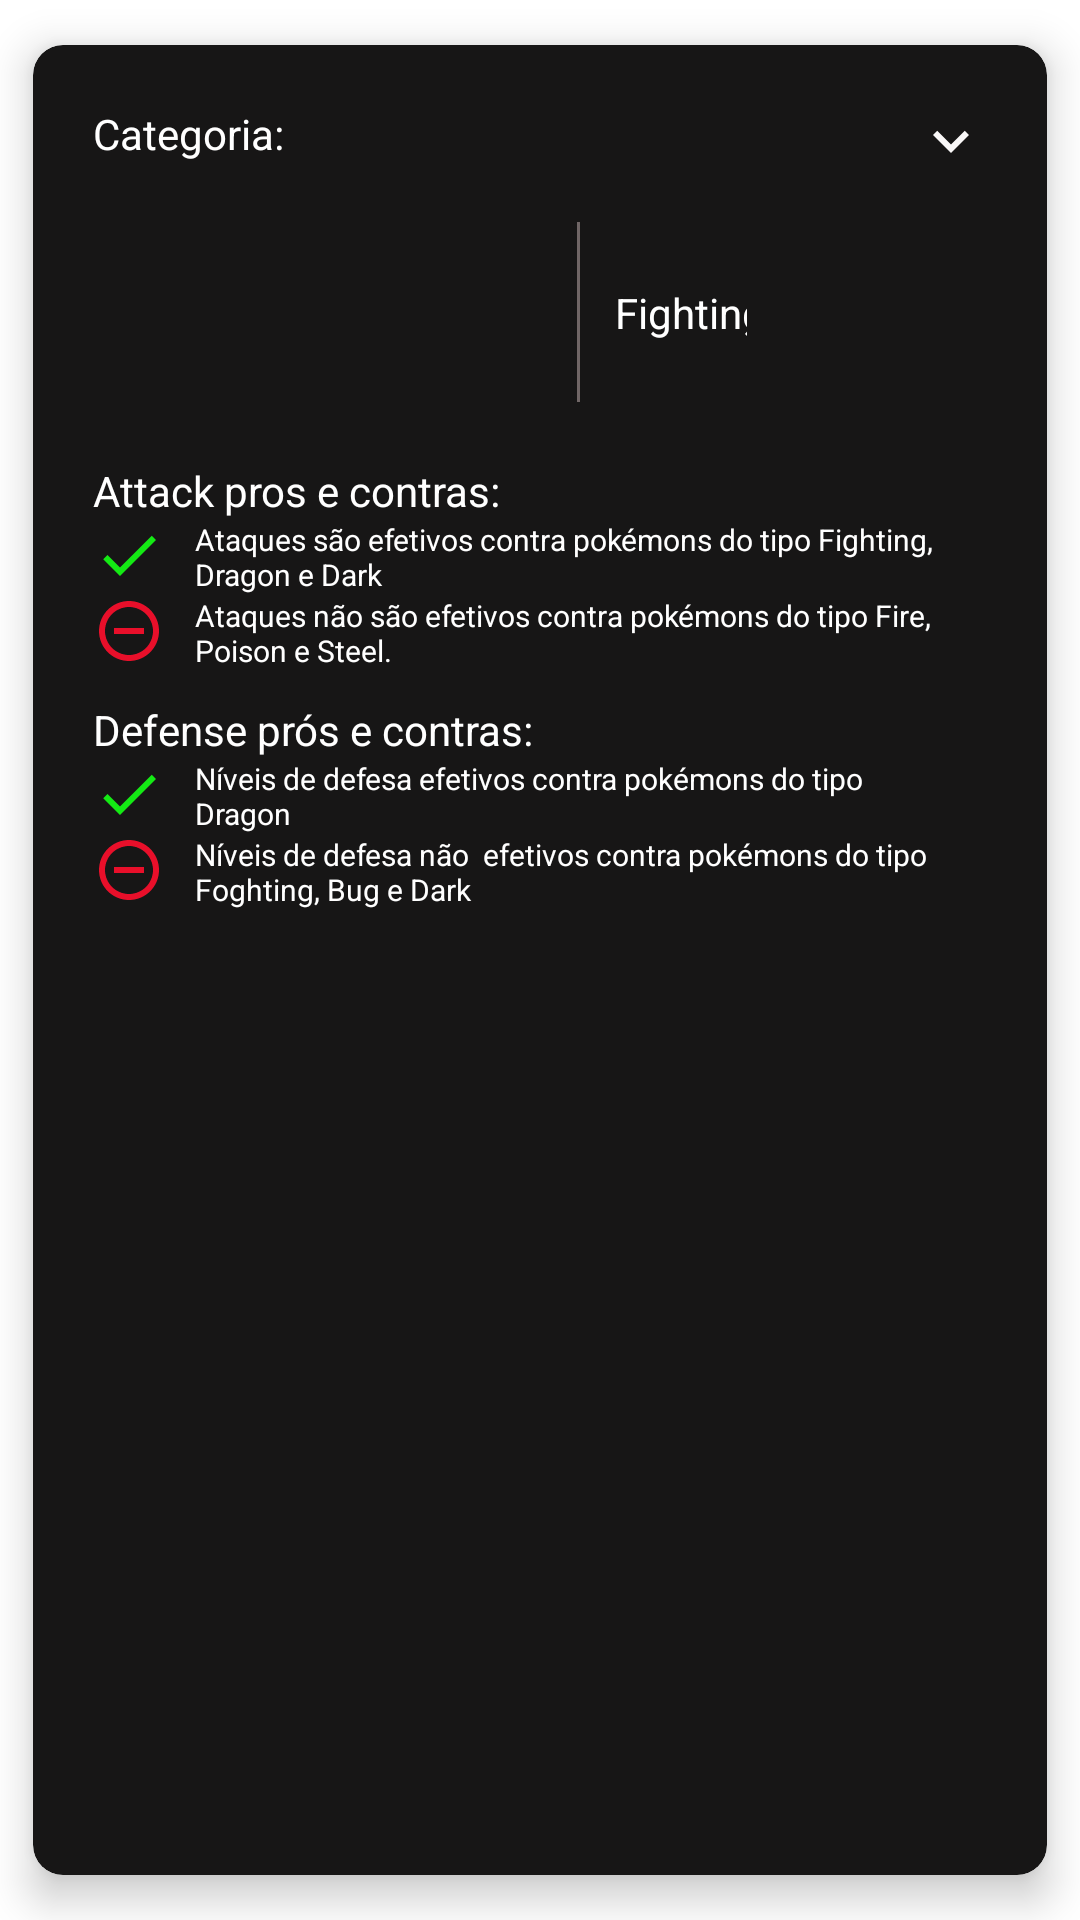

Screen size 1080px×1920px. Icon name, then its box in pixels as (x1, y1, x2, y2):
check: (103, 536, 156, 576), (103, 775, 156, 815)
expand more: (933, 131, 969, 153)
remove circle: (99, 601, 159, 661), (99, 840, 159, 900)
